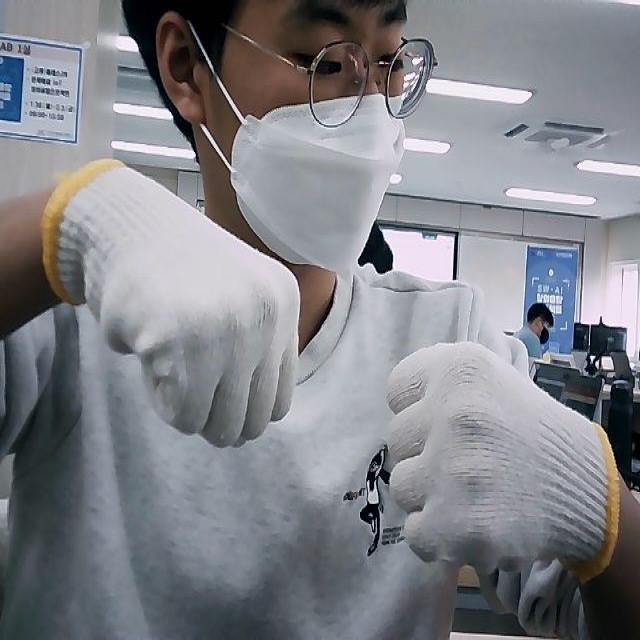GLOVE: (43, 154, 300, 448), (388, 338, 619, 580)
